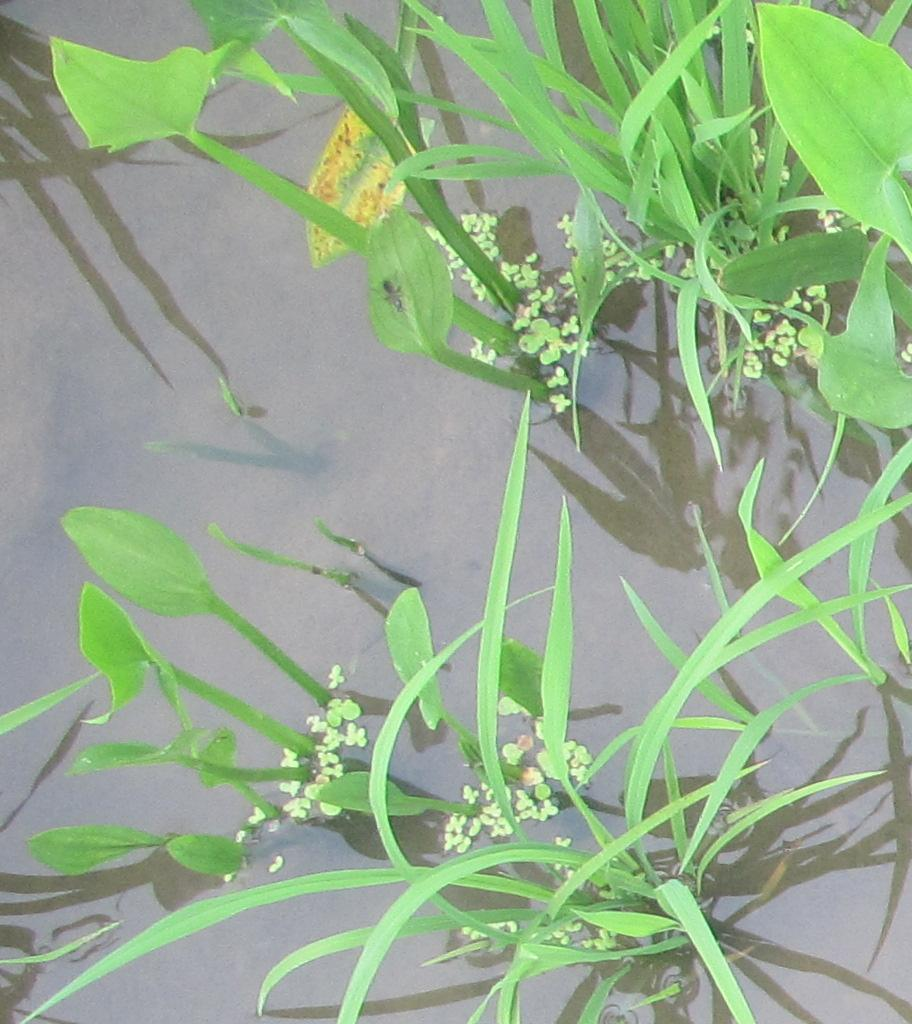Weed: (57, 499, 364, 863), (749, 7, 912, 246), (38, 27, 230, 188)
